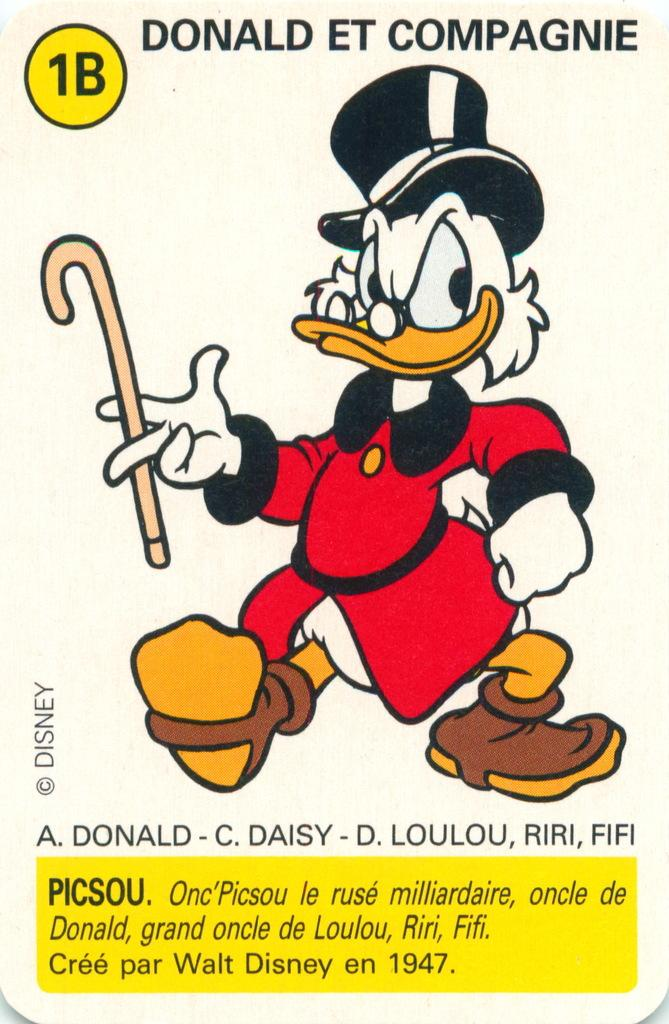Hat: (313, 60, 549, 258)
